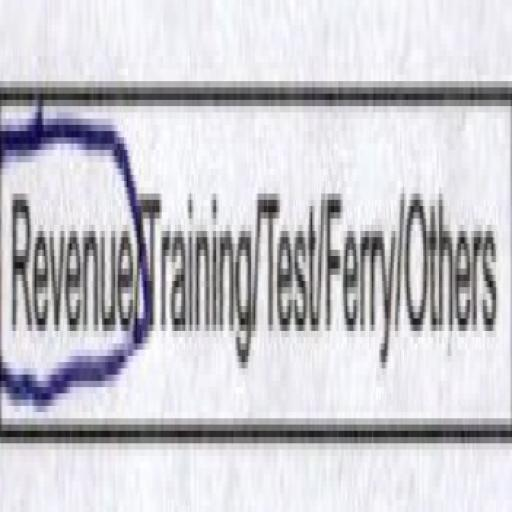check: (0, 13, 139, 510)
